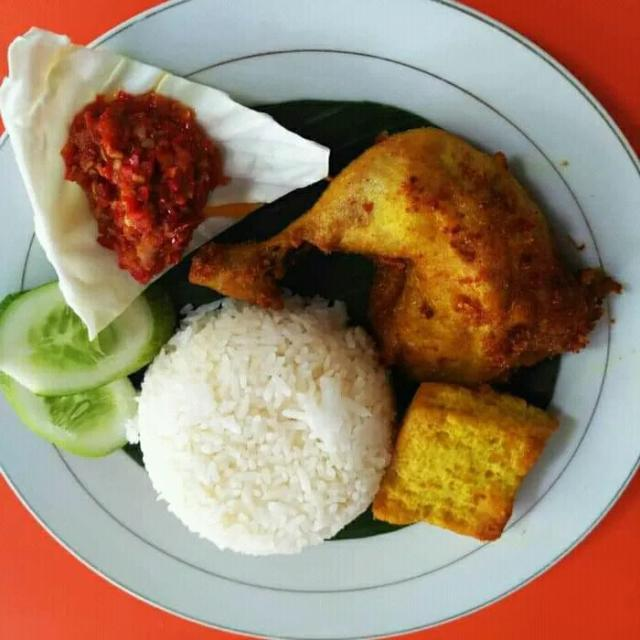ayam_goreng: (197, 123, 610, 354)
nasi_putih: (124, 312, 394, 540)
